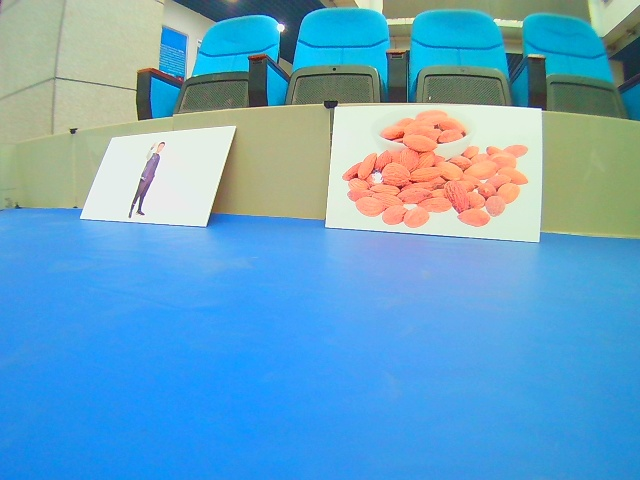food: (324, 103, 542, 245)
person: (78, 126, 240, 228)
